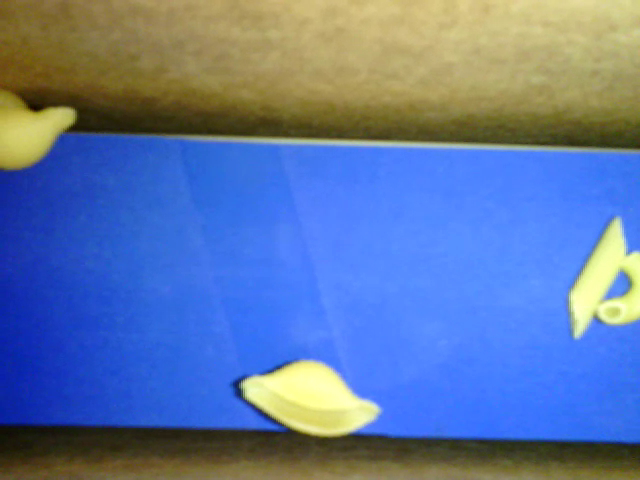elbow: (597, 250, 639, 325)
penne: (568, 215, 627, 339)
shell: (239, 359, 379, 436), (1, 106, 77, 170)
